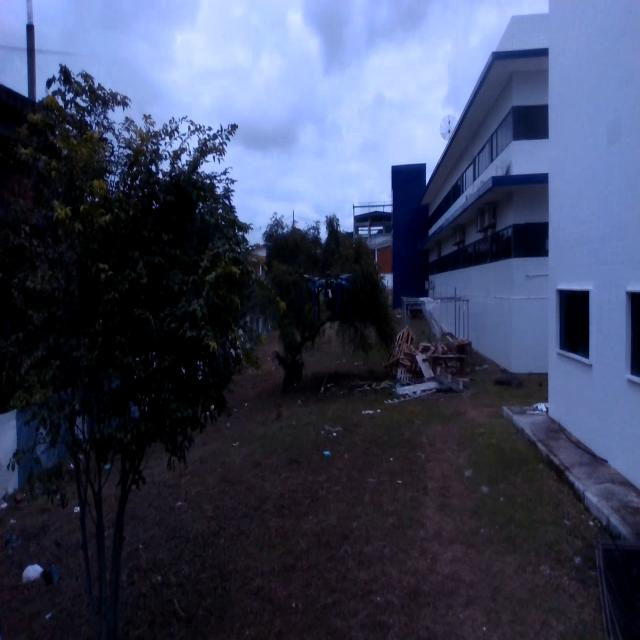-uav-: (302, 260, 350, 310)
